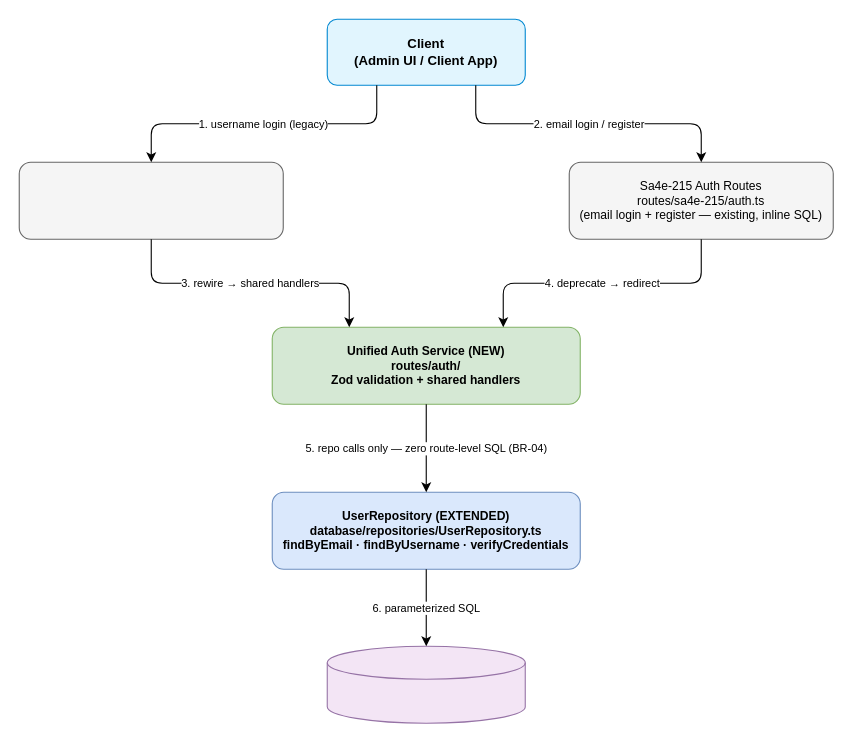
The diagram is 853 pixels wide and 743 high, and some of its shapes have lost their labels. The centre of each missing label's shape, as x and y in pixels:
"Admin Auth Routes routes/admin/auth.ts (username login — existing)" belongs at [150,200].
"SQLite — users table" belongs at [425,684].
